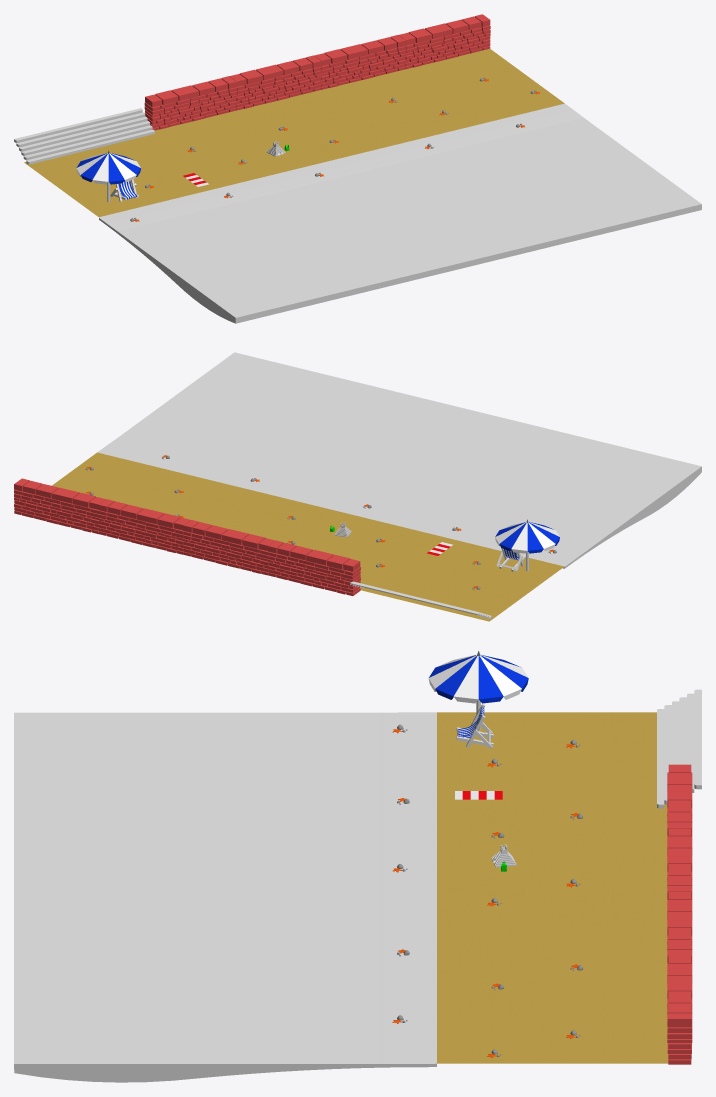
Rendered from beach_FULL.fbx.
The picture shows the model from 3 angles, top to bottom: view 1: azimuth 30°, elevation 25°; view 2: azimuth 150°, elevation 25°; view 3: azimuth 270°, elevation 25°; orthographic projection. The views are drawn at different scales.
Visible parts, largest first — view 1: Mar, Mar.001, Plane.003, Plane.002, areia.001, areia, Stairs, Wall, Wall.002, Wall.001, Wall.003, Cone; view 2: Mar, Mar.001, Plane.002, Plane.003, areia.001, areia, Wall, Wall.001, Wall.003, Wall.002, Cone, Stairs; view 3: Mar.001, Mar, Plane.003, Plane.002, areia.001, areia, Cone, Stairs, Wall.002, Wall, Wall.001, Wall.003.
Part boxes in pixels (<box>): Mar: <box>99,174,468,323</box>; Mar.001: <box>350,117,701,266</box>; Plane.003: <box>257,48,564,160</box>; Plane.002: <box>24,105,331,216</box>; areia.001: <box>332,103,583,174</box>; areia: <box>99,160,350,231</box>; Stairs: <box>14,108,154,164</box>; Wall: <box>144,76,236,130</box>; Wall.002: <box>399,14,490,69</box>; Wall.001: <box>229,55,321,110</box>; Wall.003: <box>314,35,405,89</box>; Cone: <box>76,153,140,184</box>; Mar: <box>350,409,701,568</box>; Mar.001: <box>116,352,467,495</box>; Plane.002: <box>286,509,564,621</box>; Plane.003: <box>52,452,330,542</box>; areia.001: <box>97,439,349,509</box>; areia: <box>331,496,582,566</box>; Wall: <box>268,540,360,595</box>; Wall.001: <box>183,520,275,575</box>; Wall.003: <box>98,499,190,554</box>; Wall.002: <box>14,478,105,534</box>; Cone: <box>495,522,559,553</box>; Stairs: <box>350,581,491,619</box>; Mar.001: <box>14,888,436,1082</box>; Mar: <box>14,712,379,888</box>; Plane.003: <box>435,887,668,1063</box>; Plane.002: <box>437,712,667,887</box>; areia.001: <box>379,887,436,1063</box>; areia: <box>379,712,436,888</box>; Cone: <box>428,654,528,703</box>; Stairs: <box>657,689,701,808</box>; Wall.002: <box>667,955,692,1064</box>; Wall: <box>667,764,692,836</box>; Wall.001: <box>667,828,692,899</box>; Wall.003: <box>667,892,692,963</box>.
Size of the model in its own units: 3350 by 434 by 2745.
